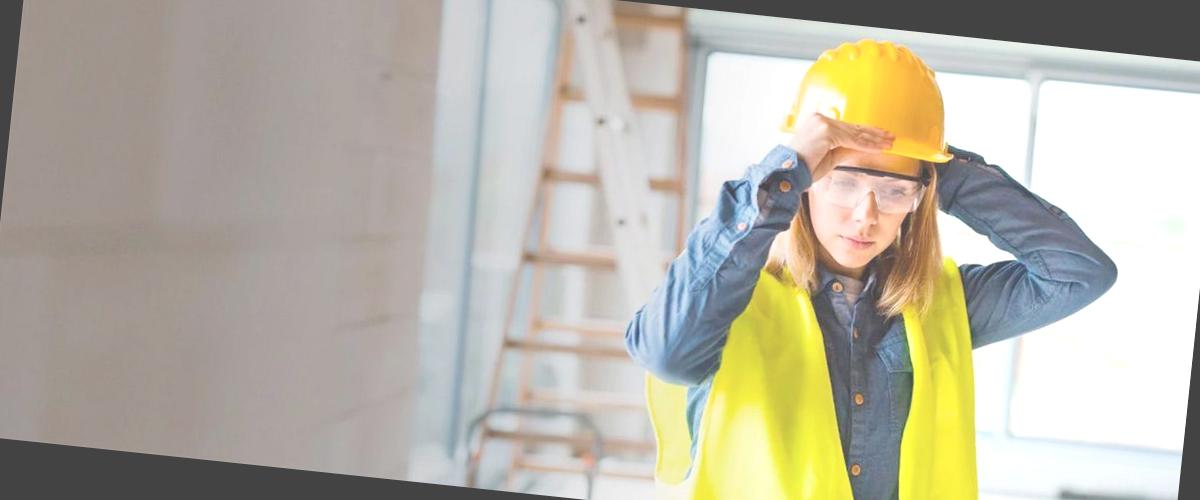helmet: (778, 28, 968, 178)
no_vest: (680, 240, 1008, 500)
person: (638, 16, 1074, 500)
